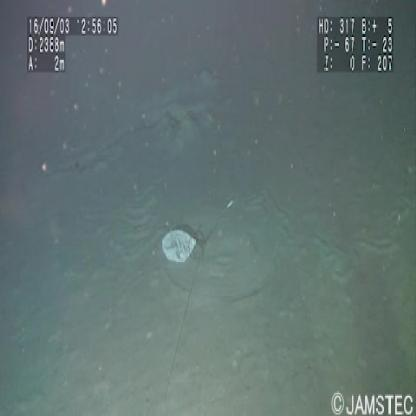Rác: (158, 222, 204, 273)
